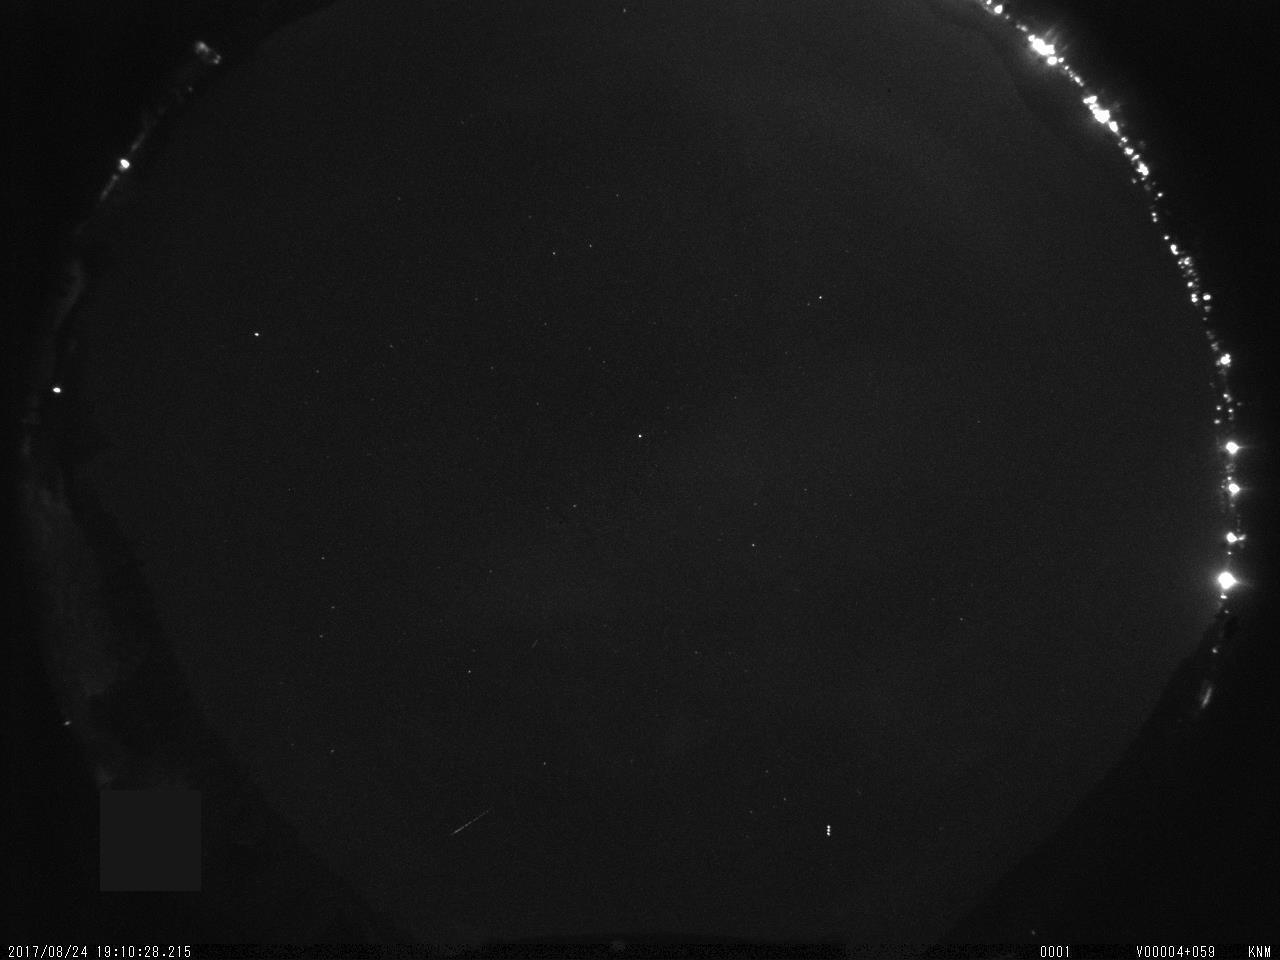Meteor: (445, 802, 500, 843)
